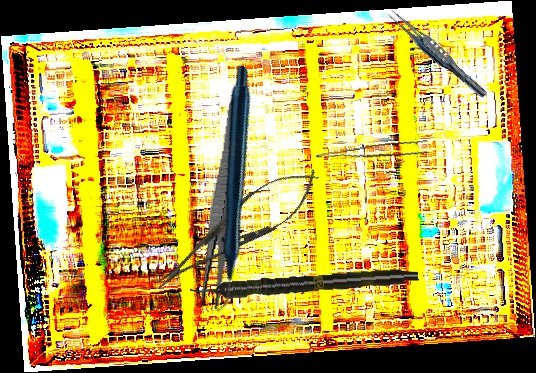Dressing Forceps: (198, 98, 246, 310)
Handpiece: (108, 63, 351, 314), (189, 265, 419, 302)
Needle Holder: (142, 154, 330, 305)
Tissue Forceps: (382, 5, 492, 102), (315, 136, 431, 171)
